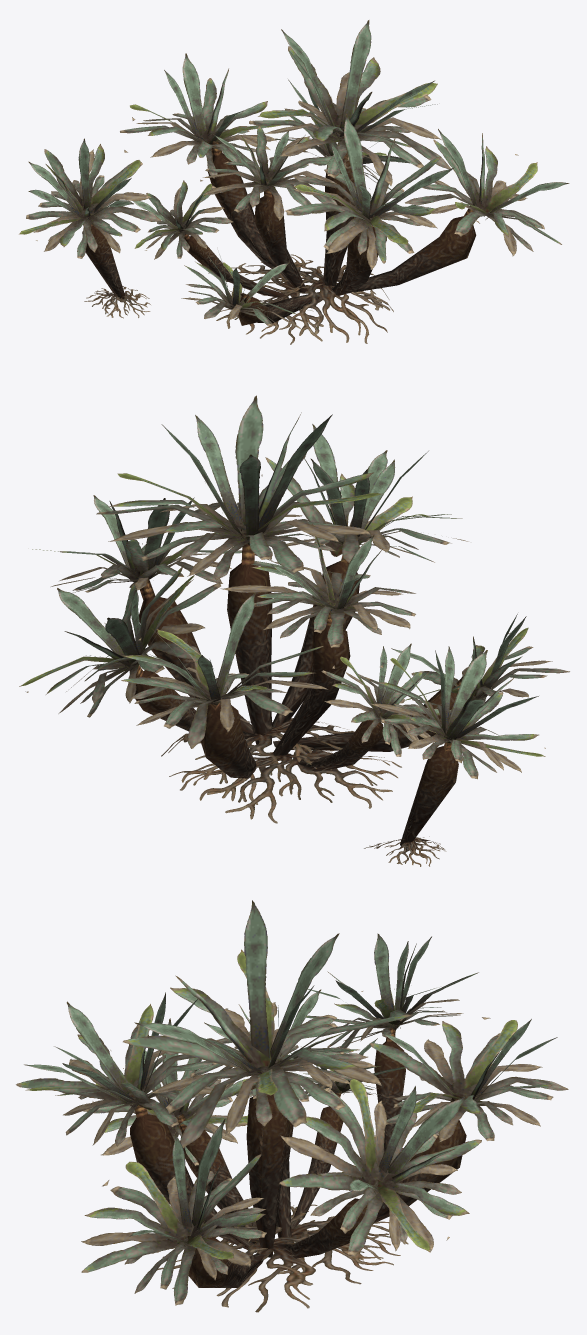
The model's file is xsm_cao_3.FBX.
The picture shows the model from 3 angles, top to bottom: view 1: azimuth 30°, elevation 25°; view 2: azimuth 150°, elevation 25°; view 3: azimuth 270°, elevation 25°; orthographic projection. The views are drawn at different scales.
Parts seen in each view (by area): view 1: xsm_cao_3; view 2: xsm_cao_3; view 3: xsm_cao_3.
Part boxes in pixels (<box>): xsm_cao_3: <box>19,20,569,344</box>; xsm_cao_3: <box>19,395,569,866</box>; xsm_cao_3: <box>16,900,568,1312</box>.
Size of the model in its own units: 548 by 454 by 328.
Materials: 1 (1 with a texture image).
